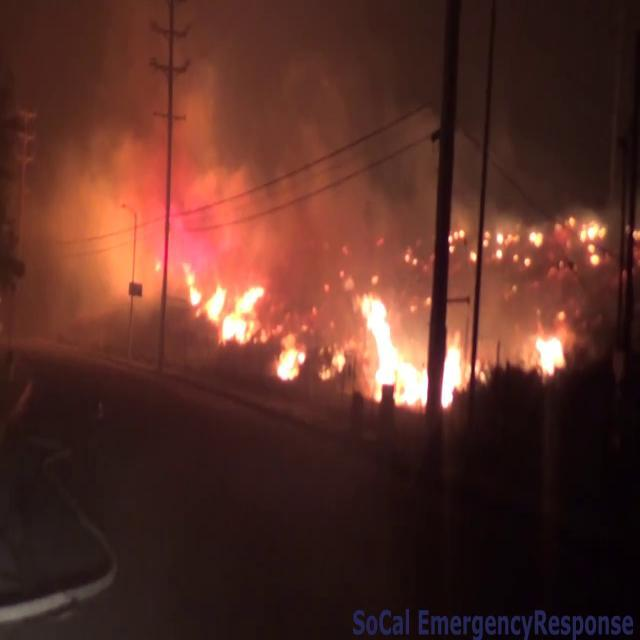Fire: (356, 289, 429, 414), (187, 259, 268, 345), (441, 326, 470, 415), (267, 330, 312, 386), (530, 322, 568, 380)
Smoke: (2, 0, 435, 305)
